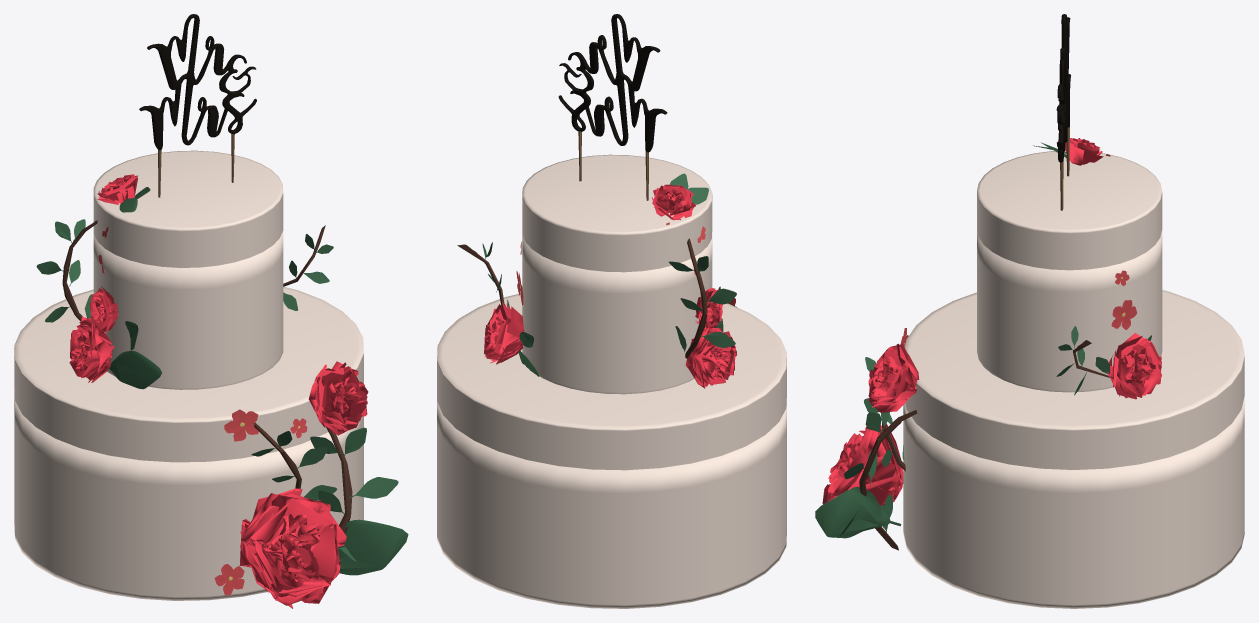
Rendered from 2-tier-white-roses-mrms.glb.
3 views of the same model, side by side, from view 1: azimuth 30°, elevation 25°; view 2: azimuth 150°, elevation 25°; view 3: azimuth 270°, elevation 25° (orthographic).
Parts seen in each view (by area): view 1: Cylinder.023, Cylinder.013, grid.025, mrms, grid.024, Plane.049, Plane.059, grid.026, Plane.056, Plane.058, Plane.052, Plane.045 (+4 smaller); view 2: Cylinder.023, Cylinder.013, mrms, grid.026, Plane.056, grid.028, grid.014, grid.027, Plane.045; view 3: Cylinder.023, Cylinder.013, grid.025, grid.028, Plane.049, grid.024, mrms, Plane.059, Plane.045, grid.014, Plane.058.
Boxes of the visible parts, <box> form: Cylinder.023: <box>14,287,363,600</box>; Cylinder.013: <box>93,150,283,389</box>; grid.025: <box>239,488,346,608</box>; mrms: <box>139,14,256,197</box>; grid.024: <box>308,361,368,435</box>; Plane.049: <box>338,519,408,575</box>; Plane.059: <box>310,427,398,561</box>; grid.026: <box>69,316,114,382</box>; Plane.056: <box>36,219,97,322</box>; Plane.058: <box>251,423,336,500</box>; Plane.052: <box>109,351,161,389</box>; Plane.045: <box>283,225,333,310</box>; Cylinder.023: <box>437,293,786,608</box>; Cylinder.013: <box>522,154,712,394</box>; mrms: <box>558,14,667,200</box>; grid.026: <box>685,327,737,388</box>; Plane.056: <box>669,238,736,358</box>; grid.028: <box>484,302,524,364</box>; grid.014: <box>651,184,696,220</box>; grid.027: <box>695,288,722,332</box>; Plane.045: <box>457,242,509,307</box>; Cylinder.023: <box>903,290,1244,608</box>; Cylinder.013: <box>977,150,1162,392</box>; grid.025: <box>822,419,903,505</box>; grid.028: <box>1106,333,1161,399</box>; Plane.049: <box>815,487,901,538</box>; grid.024: <box>868,343,919,412</box>; mrms: <box>1056,14,1070,210</box>; Plane.059: <box>840,410,917,550</box>; Plane.045: <box>1056,326,1113,395</box>; grid.014: <box>1065,138,1103,165</box>; Plane.058: <box>864,357,905,471</box>.
Size of the model in its own units: 3.4 by 5.61 by 4.11.
